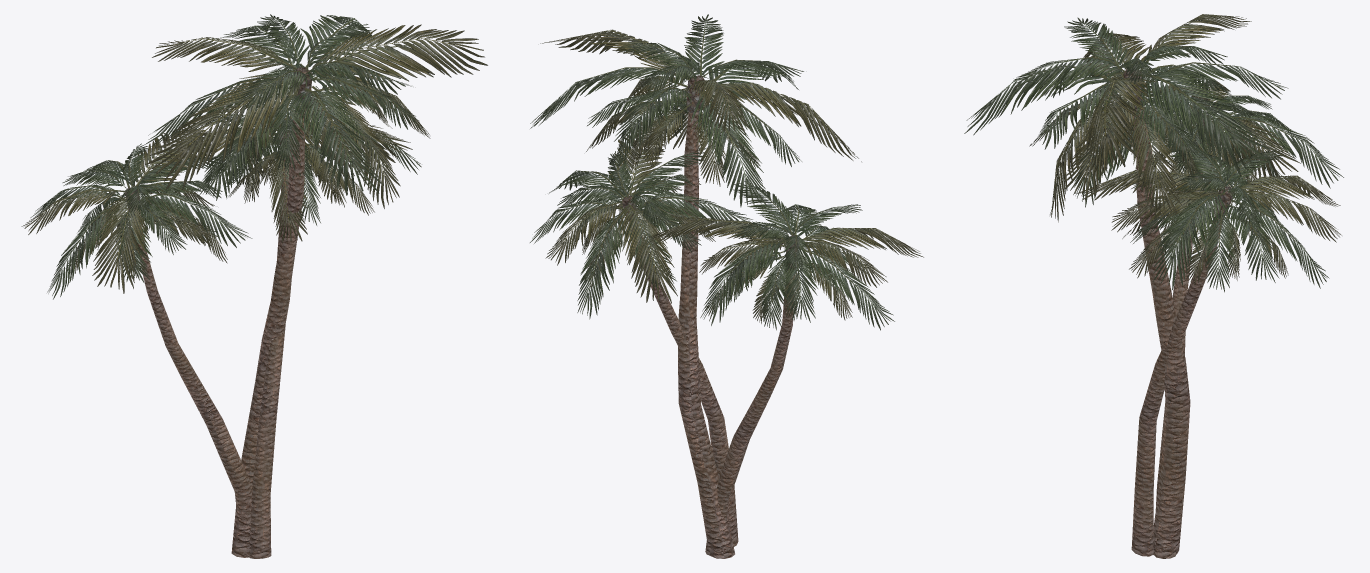
The model's file is hl-palm.glb.
3 views of the same model, side by side, from view 1: azimuth 30°, elevation 25°; view 2: azimuth 150°, elevation 25°; view 3: azimuth 270°, elevation 25° (orthographic). The views are drawn at different scales.
Visible parts, largest first — view 1: Palm0, Palm2, Palm1; view 2: Palm0, Palm2, Palm1; view 3: Palm0, Palm1, Palm2.
Part boxes in pixels (<box>): Palm0: <box>144,14,487,557</box>; Palm2: <box>21,127,252,521</box>; Palm1: <box>151,108,421,558</box>; Palm0: <box>530,14,861,558</box>; Palm2: <box>647,181,923,555</box>; Palm1: <box>530,119,752,546</box>; Palm0: <box>964,14,1288,554</box>; Palm1: <box>1075,132,1341,556</box>; Palm2: <box>1079,78,1343,558</box>.
Bounding box in the file's own units: 7.77 × 9.14 × 6.15.
Materials: 1 (1 with a texture image).
